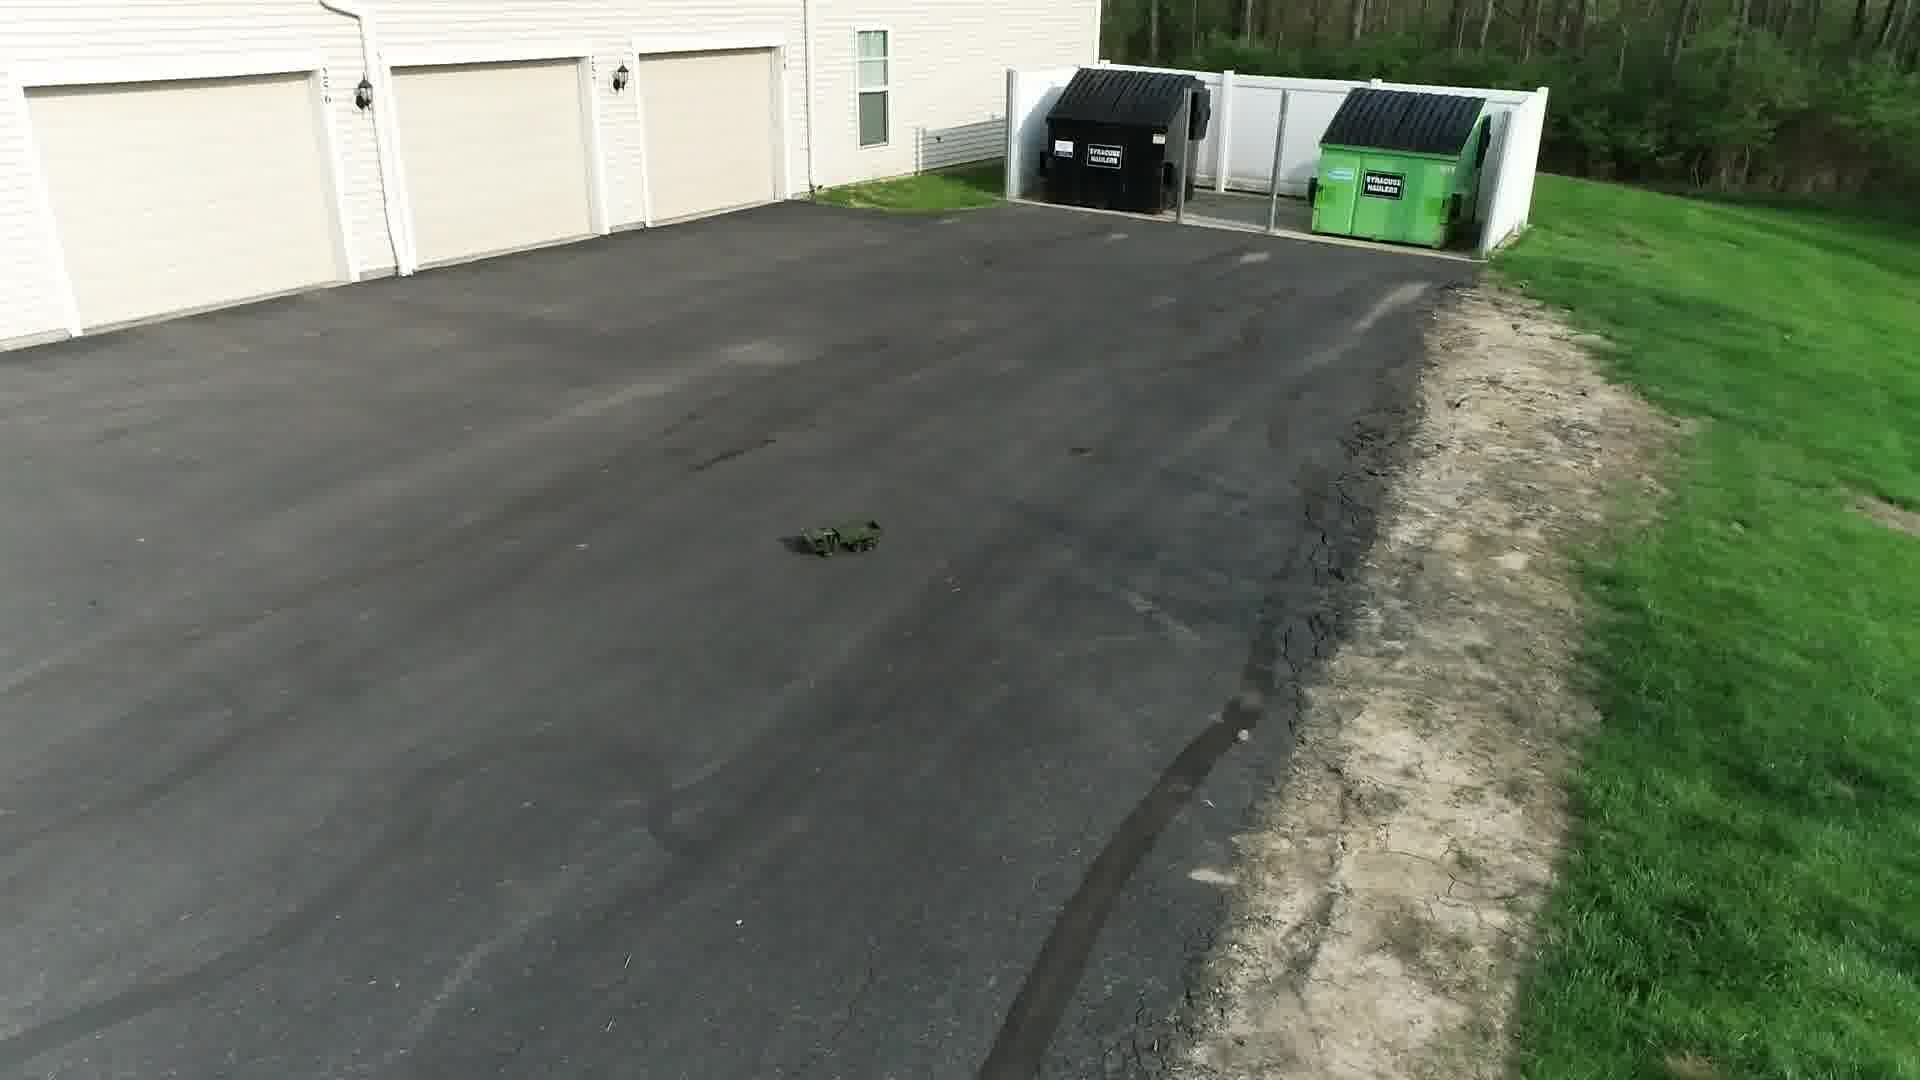transporter9: (795, 508, 889, 559)
